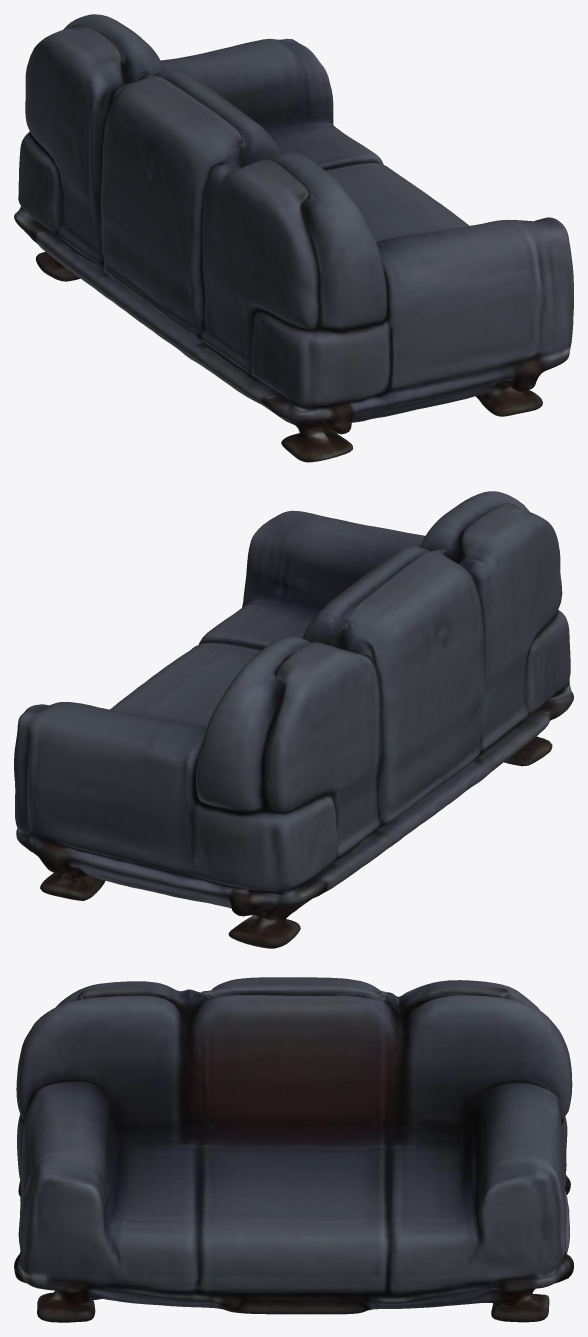
File: eb151e59d807_a_strange_sofa__3d_.fbx
The picture shows the model from 3 angles, top to bottom: view 1: azimuth 30°, elevation 25°; view 2: azimuth 150°, elevation 25°; view 3: azimuth 270°, elevation 25°; orthographic projection. The views are drawn at different scales.
Visible parts, largest first — view 1: high_poly; view 2: high_poly; view 3: high_poly.
Part boxes in pixels (x1,y1,x2,y2): high_poly: (14,14,573,462); high_poly: (14,491,573,948); high_poly: (14,977,573,1322).
Size of the model in its own units: 57.11 by 47.77 by 100.
